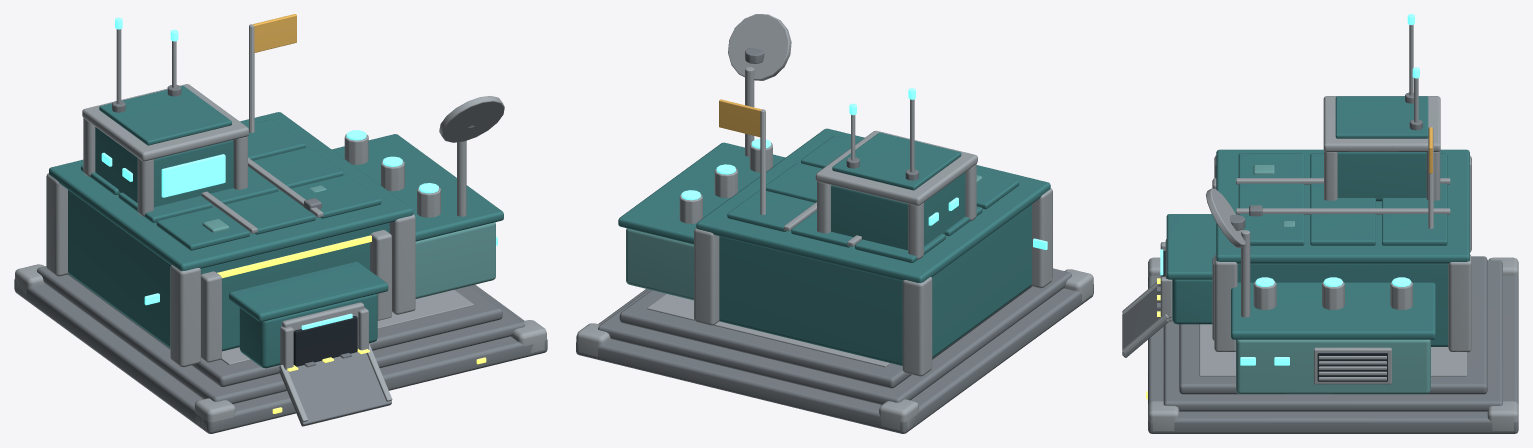
The model's file is meridian-hq.glb.
The picture shows the model from 3 angles, left to right: view 1: azimuth 30°, elevation 25°; view 2: azimuth 150°, elevation 25°; view 3: azimuth 270°, elevation 25°; orthographic projection. The views are drawn at different scales.
Visible parts, largest first — view 1: HqBodyMesh; view 2: HqBodyMesh; view 3: HqBodyMesh.
Part boxes in pixels (bbox=[...]): HqBodyMesh: bbox=[14, 14, 547, 433]; HqBodyMesh: bbox=[576, 14, 1093, 433]; HqBodyMesh: bbox=[1122, 14, 1518, 433].
Size of the model in its own units: 3.92 by 3.26 by 4.06.
